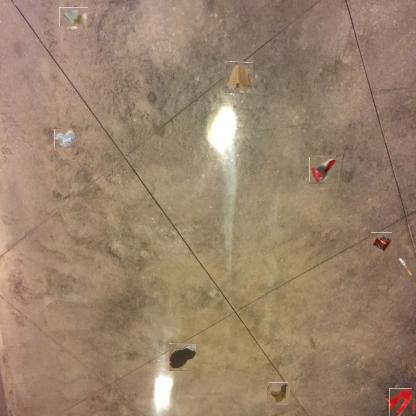dirty: (225, 62, 253, 94), (310, 156, 337, 183), (61, 4, 86, 29), (370, 232, 392, 253), (268, 383, 289, 405), (54, 128, 75, 148), (397, 258, 415, 278)
liquid: (168, 343, 196, 371), (388, 389, 414, 416)
